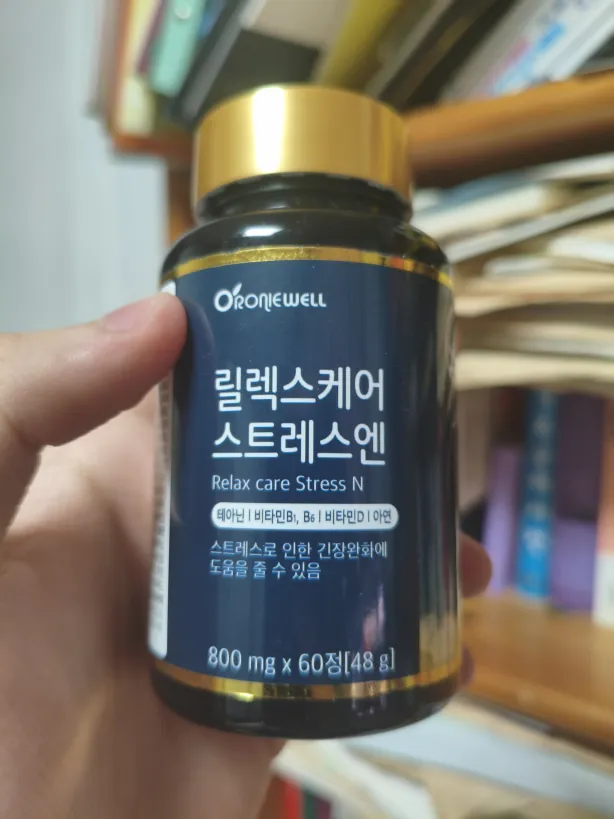supplement_label: (136, 241, 480, 707)
